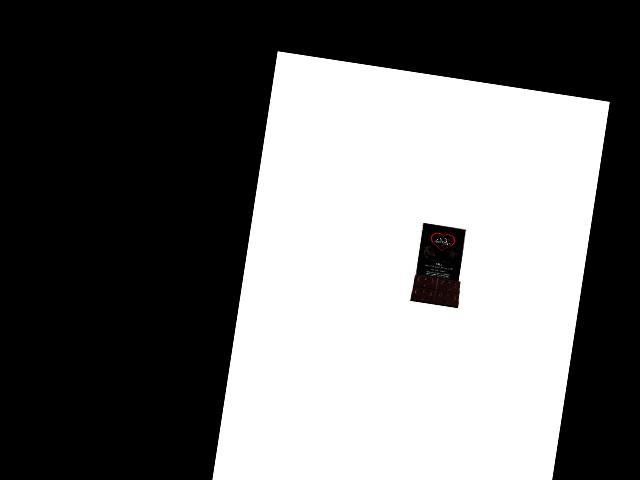chocolate: (408, 222, 473, 311)
